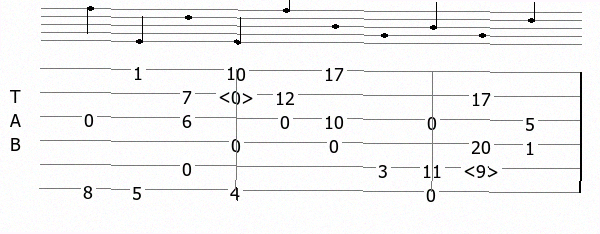0: (84, 110, 98, 127), (182, 158, 196, 175), (231, 134, 245, 151), (280, 110, 294, 127), (329, 134, 343, 151), (427, 110, 441, 127), (427, 182, 441, 199)
1: (133, 62, 147, 79), (525, 134, 539, 151)
10: (226, 62, 250, 79), (324, 110, 348, 127)
11: (422, 158, 446, 175)
12: (275, 86, 299, 103)
17: (324, 62, 348, 79), (471, 86, 495, 103)
20: (471, 134, 495, 151)
3: (378, 158, 392, 175)
4: (231, 182, 245, 199)
5: (133, 182, 147, 199), (525, 110, 539, 127)
6: (182, 110, 196, 127)
7: (182, 86, 196, 103)
8: (84, 182, 98, 199)
harmonic: (218, 86, 258, 103), (463, 158, 503, 175)
